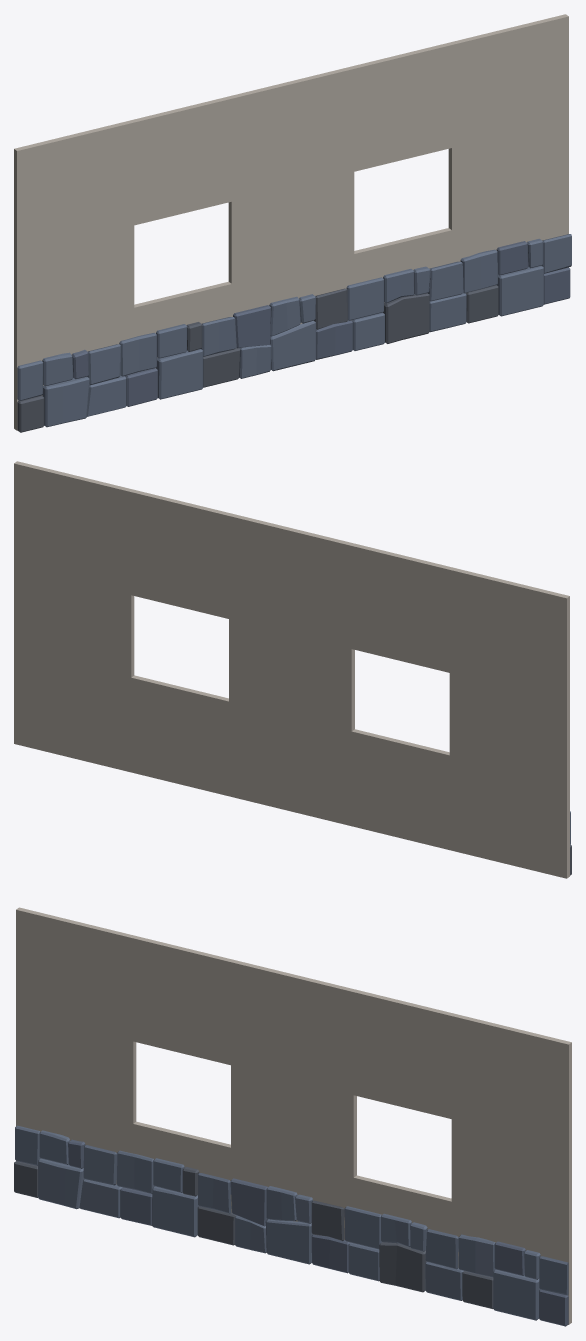
File: Wall_09_Window.fbx
3 renders of one model, top to bottom at view 1: azimuth 30°, elevation 25°; view 2: azimuth 150°, elevation 25°; view 3: azimuth 330°, elevation 25°, orthographic.
Parts seen in each view (by area): view 1: Wall_09_Window; view 2: Wall_09_Window; view 3: Wall_09_Window.
Boxes of the visible parts, box(x1,y1,x2,y2) form: Wall_09_Window: box(14, 14, 571, 432); Wall_09_Window: box(14, 461, 571, 878); Wall_09_Window: box(14, 907, 571, 1326).
Bounding box in the file's own units: 575 × 279 × 13.85.
